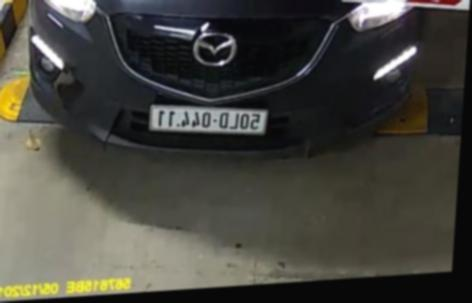License_Plate: (139, 86, 282, 145)
